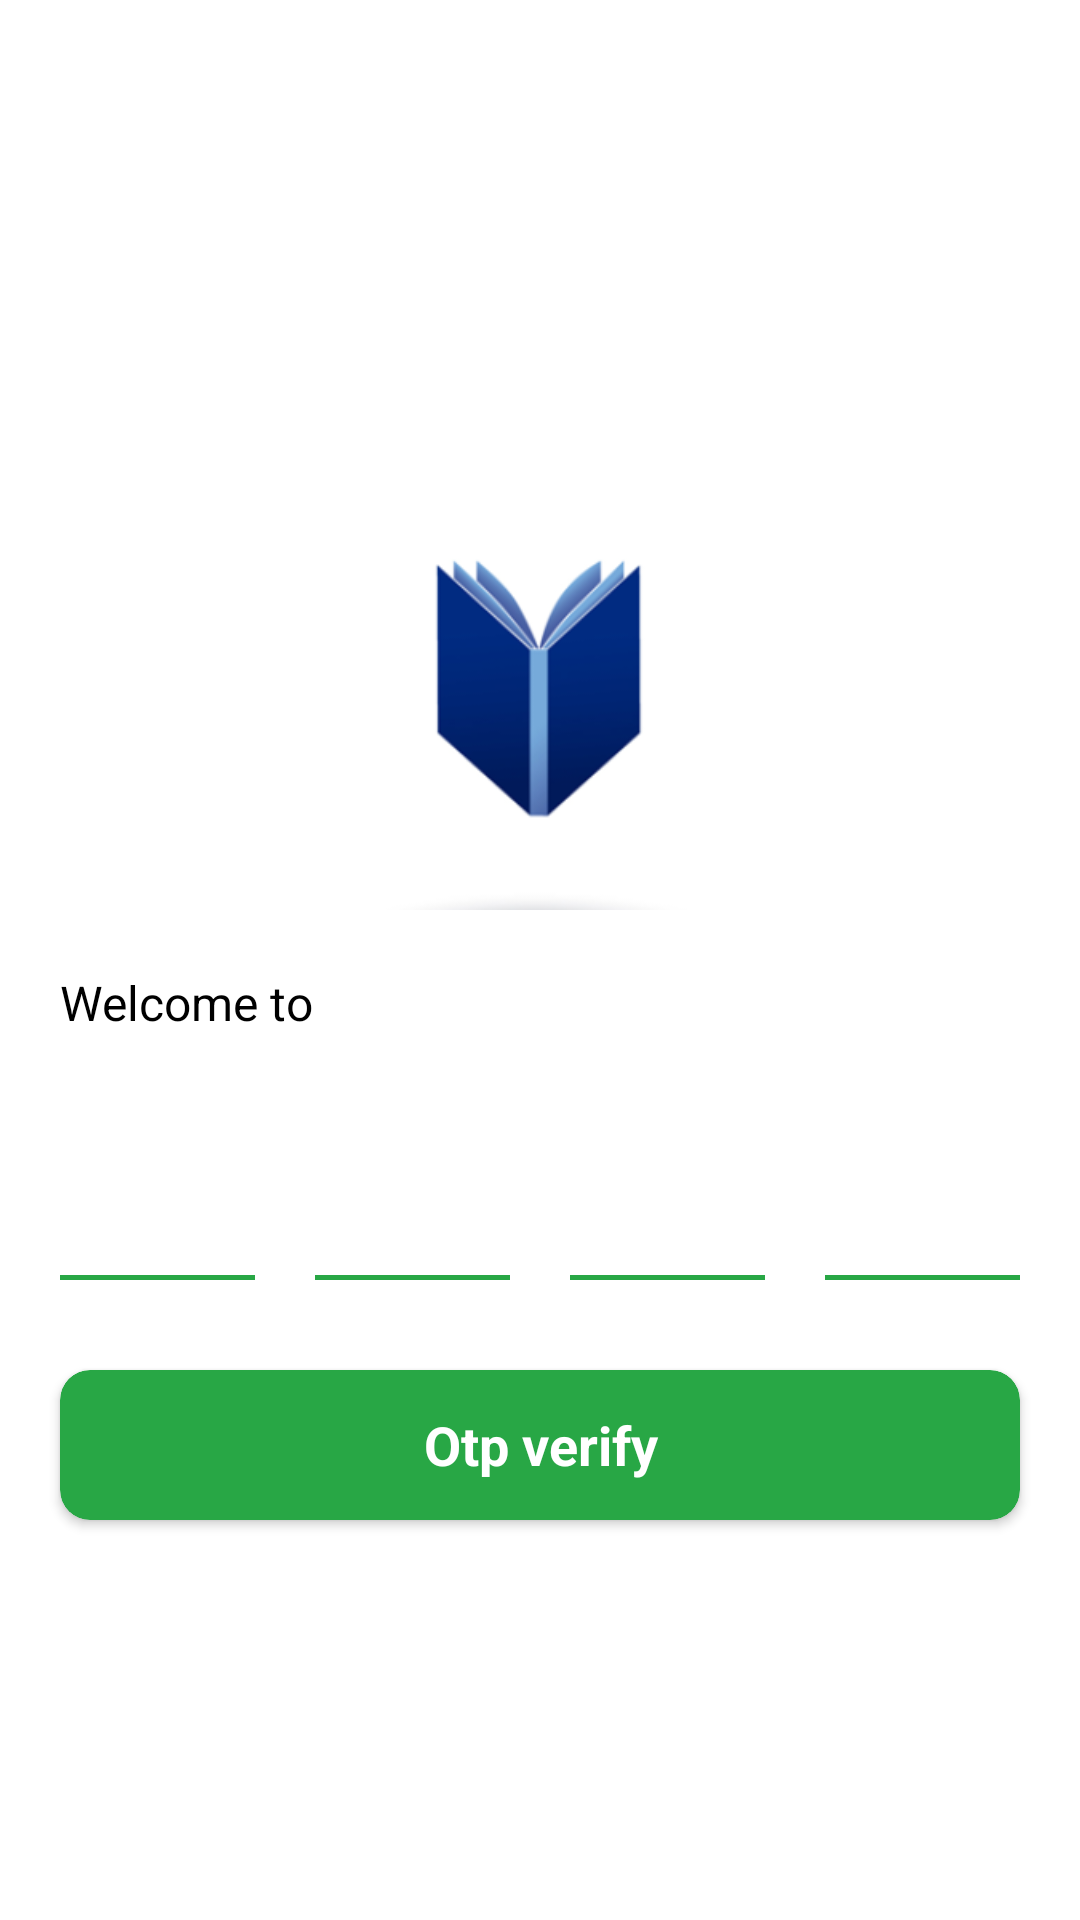

Point at icon controls on the screen. Image size 1080 × 1920, points as (x=x, y=y).
book: (x=538, y=735)
